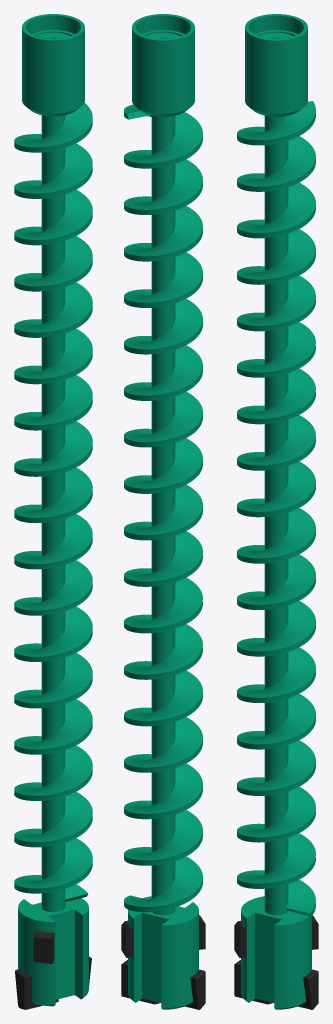
Rendered from drill_bit_crown.glb.
3 renders of one model, left to right at view 1: azimuth 30°, elevation 25°; view 2: azimuth 150°, elevation 25°; view 3: azimuth 330°, elevation 25°, orthographic.
Parts seen in each view (by area): view 1: Sampling_Flight, Sampling_Root_Shaft, Bit_Crown_Body, Joint_Coupling, Bit_Sub_Shoulder, Gauge_Reamer_Pad_2, WC_Insert_2; view 2: Sampling_Flight, Sampling_Root_Shaft, Bit_Crown_Body, Joint_Coupling, Bit_Sub_Shoulder, WC_Insert_2, Gauge_Reamer_Pad_1, WC_Insert_1; view 3: Sampling_Flight, Sampling_Root_Shaft, Bit_Crown_Body, Joint_Coupling, Bit_Sub_Shoulder, WC_Insert_1, Gauge_Reamer_Pad_2, WC_Insert_2.
Part boxes in pixels (left/top/right/bottom): Sampling_Flight: left=14, top=102, right=92, bottom=901; Sampling_Root_Shaft: left=41, top=115, right=65, bottom=912; Bit_Crown_Body: left=18, top=898, right=88, bottom=1006; Joint_Coupling: left=22, top=14, right=84, bottom=97; Bit_Sub_Shoulder: left=22, top=85, right=84, bottom=116; Gauge_Reamer_Pad_2: left=33, top=930, right=54, bottom=963; WC_Insert_2: left=15, top=969, right=58, bottom=1009; Sampling_Flight: left=124, top=104, right=202, bottom=912; Sampling_Root_Shaft: left=151, top=115, right=175, bottom=915; Bit_Crown_Body: left=128, top=896, right=198, bottom=1009; Joint_Coupling: left=132, top=14, right=194, bottom=97; Bit_Sub_Shoulder: left=132, top=86, right=194, bottom=116; WC_Insert_2: left=185, top=969, right=205, bottom=1009; Gauge_Reamer_Pad_1: left=121, top=920, right=133, bottom=957; WC_Insert_1: left=121, top=960, right=159, bottom=1004; Sampling_Flight: left=237, top=101, right=315, bottom=916; Sampling_Root_Shaft: left=264, top=115, right=288, bottom=915; Bit_Crown_Body: left=241, top=896, right=311, bottom=1009; Joint_Coupling: left=245, top=14, right=307, bottom=97; Bit_Sub_Shoulder: left=245, top=86, right=307, bottom=116; WC_Insert_1: left=298, top=969, right=318, bottom=1009; Gauge_Reamer_Pad_2: left=234, top=920, right=246, bottom=957; WC_Insert_2: left=234, top=960, right=272, bottom=1004.
Bounding box in the file's own units: 0.021 × 0.2728 × 0.02.
